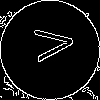V: (25, 25, 75, 63)
